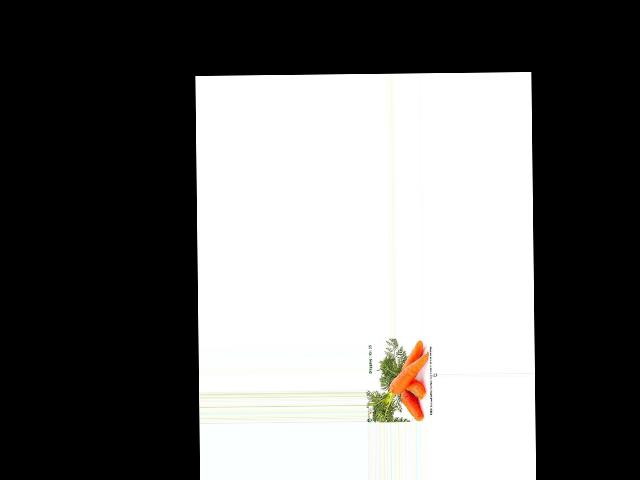carrot: (397, 389, 424, 421)
